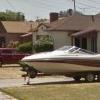Boat: (13, 44, 100, 80)
